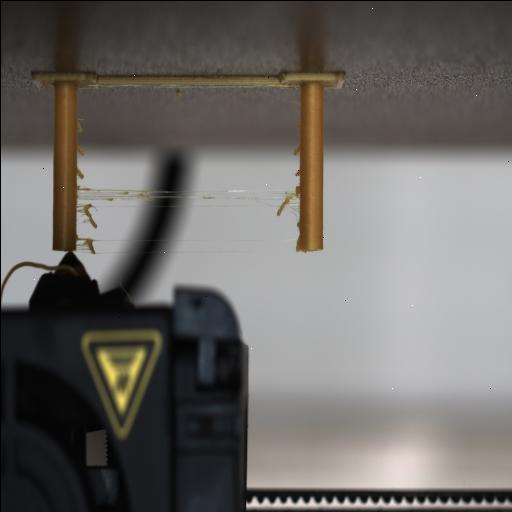stringing: (192, 190, 260, 200), (76, 201, 98, 227), (276, 191, 296, 217), (76, 237, 96, 253), (75, 166, 83, 179), (76, 144, 84, 156), (76, 120, 82, 132), (293, 144, 299, 156), (294, 184, 300, 196), (142, 194, 154, 200), (294, 168, 300, 176), (296, 121, 300, 130), (292, 84, 300, 88), (76, 184, 80, 190)
